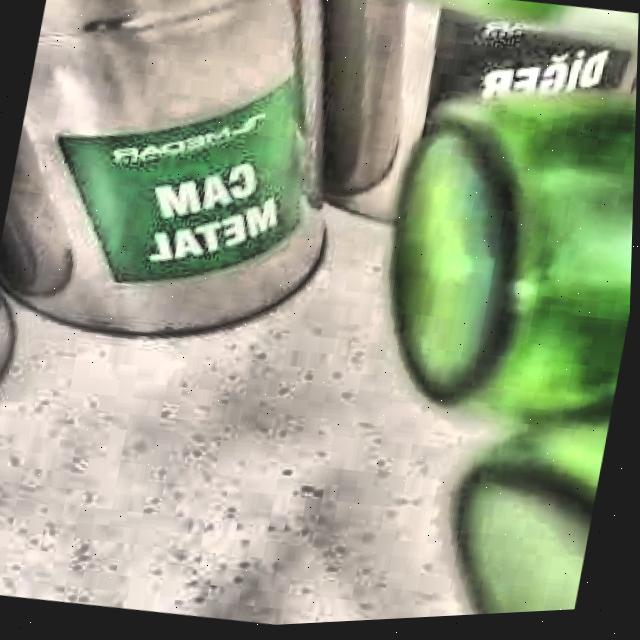glass: (395, 101, 637, 620)
